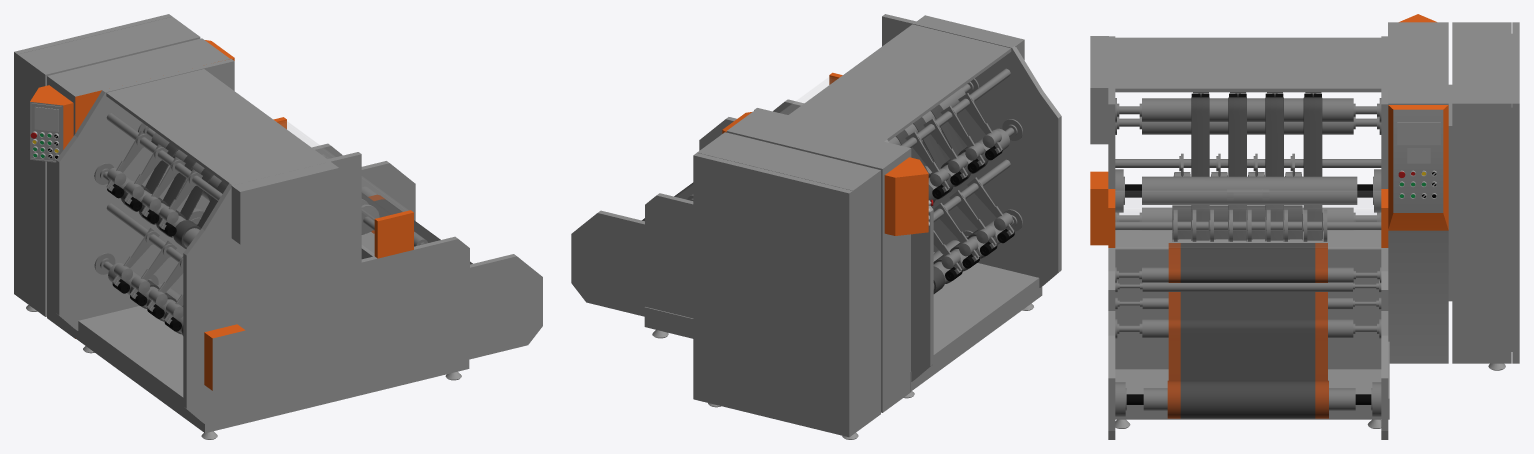
The model's file is 슬리팅공정머신 진짜 텍스처까지끝 (3).fbx.
3 renders of one model, left to right at view 1: azimuth 30°, elevation 25°; view 2: azimuth 150°, elevation 25°; view 3: azimuth 270°, elevation 25°, orthographic. The views are drawn at different scales.
Visible parts, largest first — view 1: 본체.001, 코일.001, 고정발1.001, 고정발2.001, 롤러.013, 롤러.012, 롤러.011; view 2: 본체.001, 고정발1.001, 고정발2.001, 코일.001, 롤러.012, 롤러.011, 롤러.013; view 3: 본체.001, 코일.001, 롤러.008, 롤러.011, 컷팅기.001, 롤러.012, 롤러.001, 롤러.005, 롤러.002, 롤러.013, 롤러.003, 롤러.004 (+2 smaller).
Part boxes in pixels (bbox=[...]): 본체.001: bbox=[14, 14, 542, 439]; 코일.001: bbox=[121, 143, 472, 335]; 고정발1.001: bbox=[106, 131, 202, 236]; 고정발2.001: bbox=[112, 228, 183, 331]; 롤러.013: bbox=[94, 252, 183, 333]; 롤러.012: bbox=[94, 163, 199, 247]; 롤러.011: bbox=[138, 123, 221, 189]; 본체.001: bbox=[571, 14, 1061, 439]; 고정발1.001: bbox=[905, 93, 1002, 198]; 고정발2.001: bbox=[933, 177, 1014, 281]; 코일.001: bbox=[642, 104, 997, 293]; 롤러.012: bbox=[928, 119, 1022, 199]; 롤러.011: bbox=[888, 78, 979, 145]; 롤러.013: bbox=[933, 209, 1022, 289]; 본체.001: bbox=[1090, 14, 1519, 439]; 코일.001: bbox=[1167, 97, 1328, 418]; 롤러.008: bbox=[1115, 169, 1381, 212]; 롤러.011: bbox=[1115, 98, 1381, 122]; 컷팅기.001: bbox=[1115, 209, 1381, 241]; 롤러.012: bbox=[1115, 117, 1381, 134]; 롤러.001: bbox=[1115, 382, 1381, 416]; 롤러.005: bbox=[1115, 280, 1381, 292]; 롤러.002: bbox=[1115, 319, 1381, 338]; 롤러.013: bbox=[1115, 207, 1381, 221]; 롤러.003: bbox=[1115, 267, 1381, 283]; 롤러.004: bbox=[1115, 297, 1381, 309].
Size of the model in its own units: 846 by 549 by 791.
